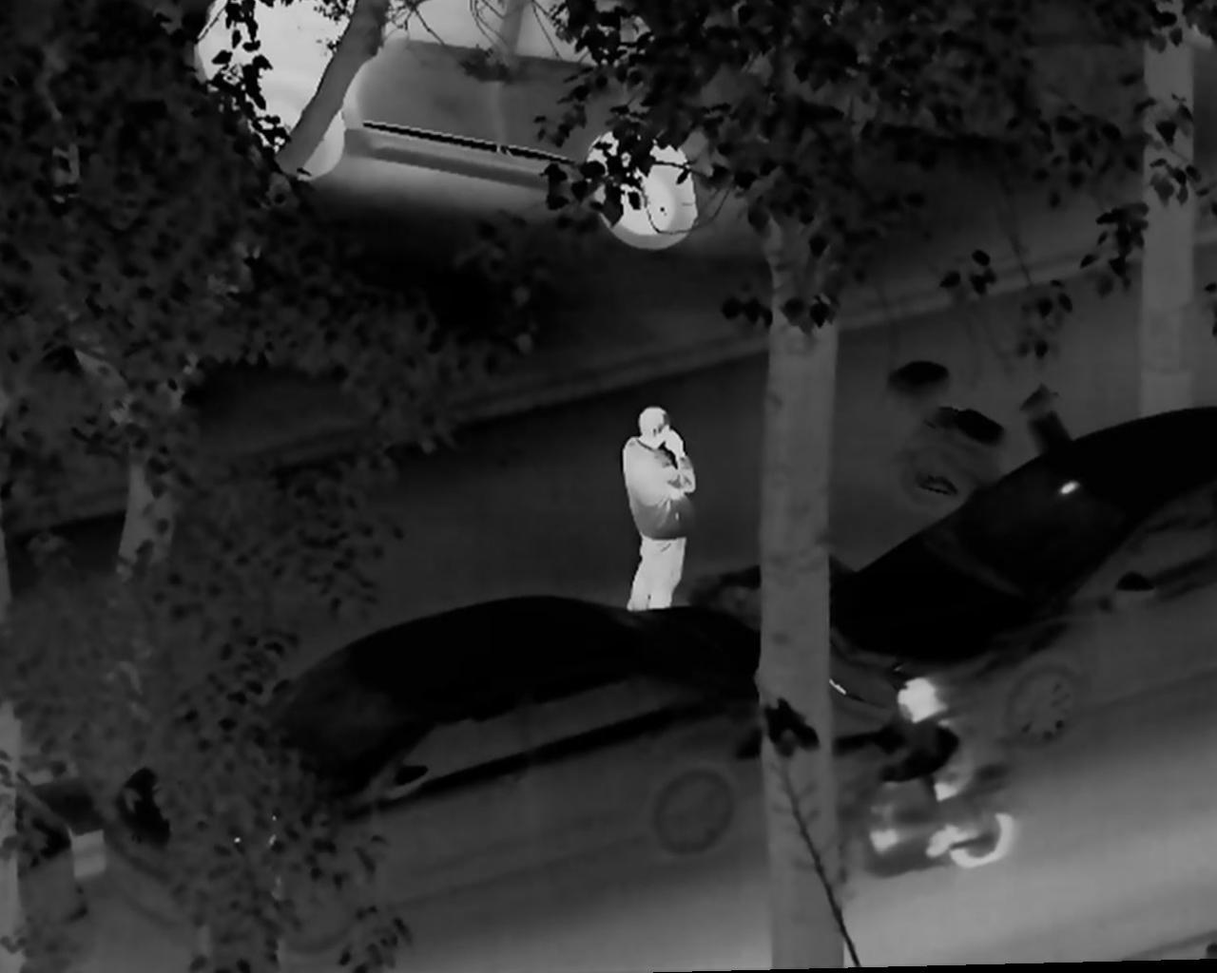person: (861, 668, 987, 860), (615, 391, 697, 612)
